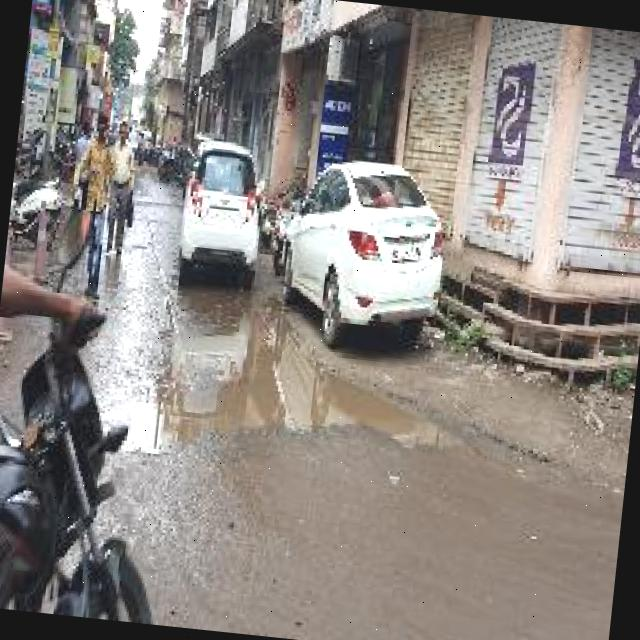stagnation: (132, 315, 322, 462)
